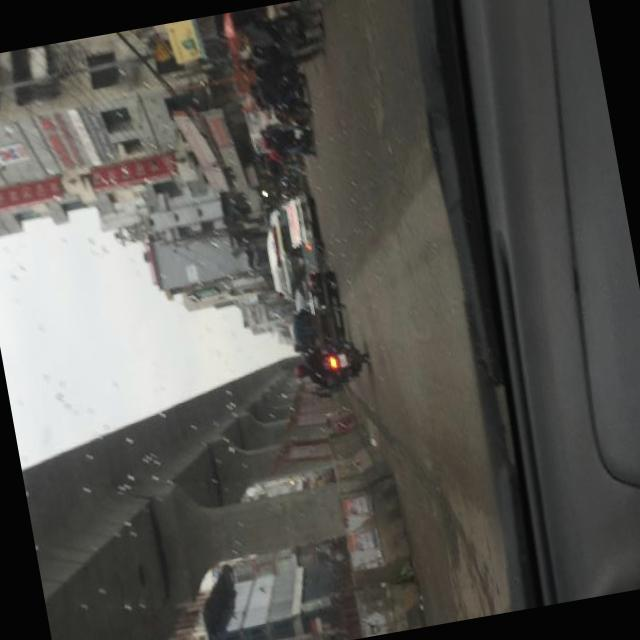car: (289, 268, 341, 314)
motorcycle: (286, 304, 344, 350), (268, 71, 310, 126), (278, 238, 324, 286), (316, 342, 368, 384), (279, 122, 313, 154)
truck: (258, 191, 321, 282)
